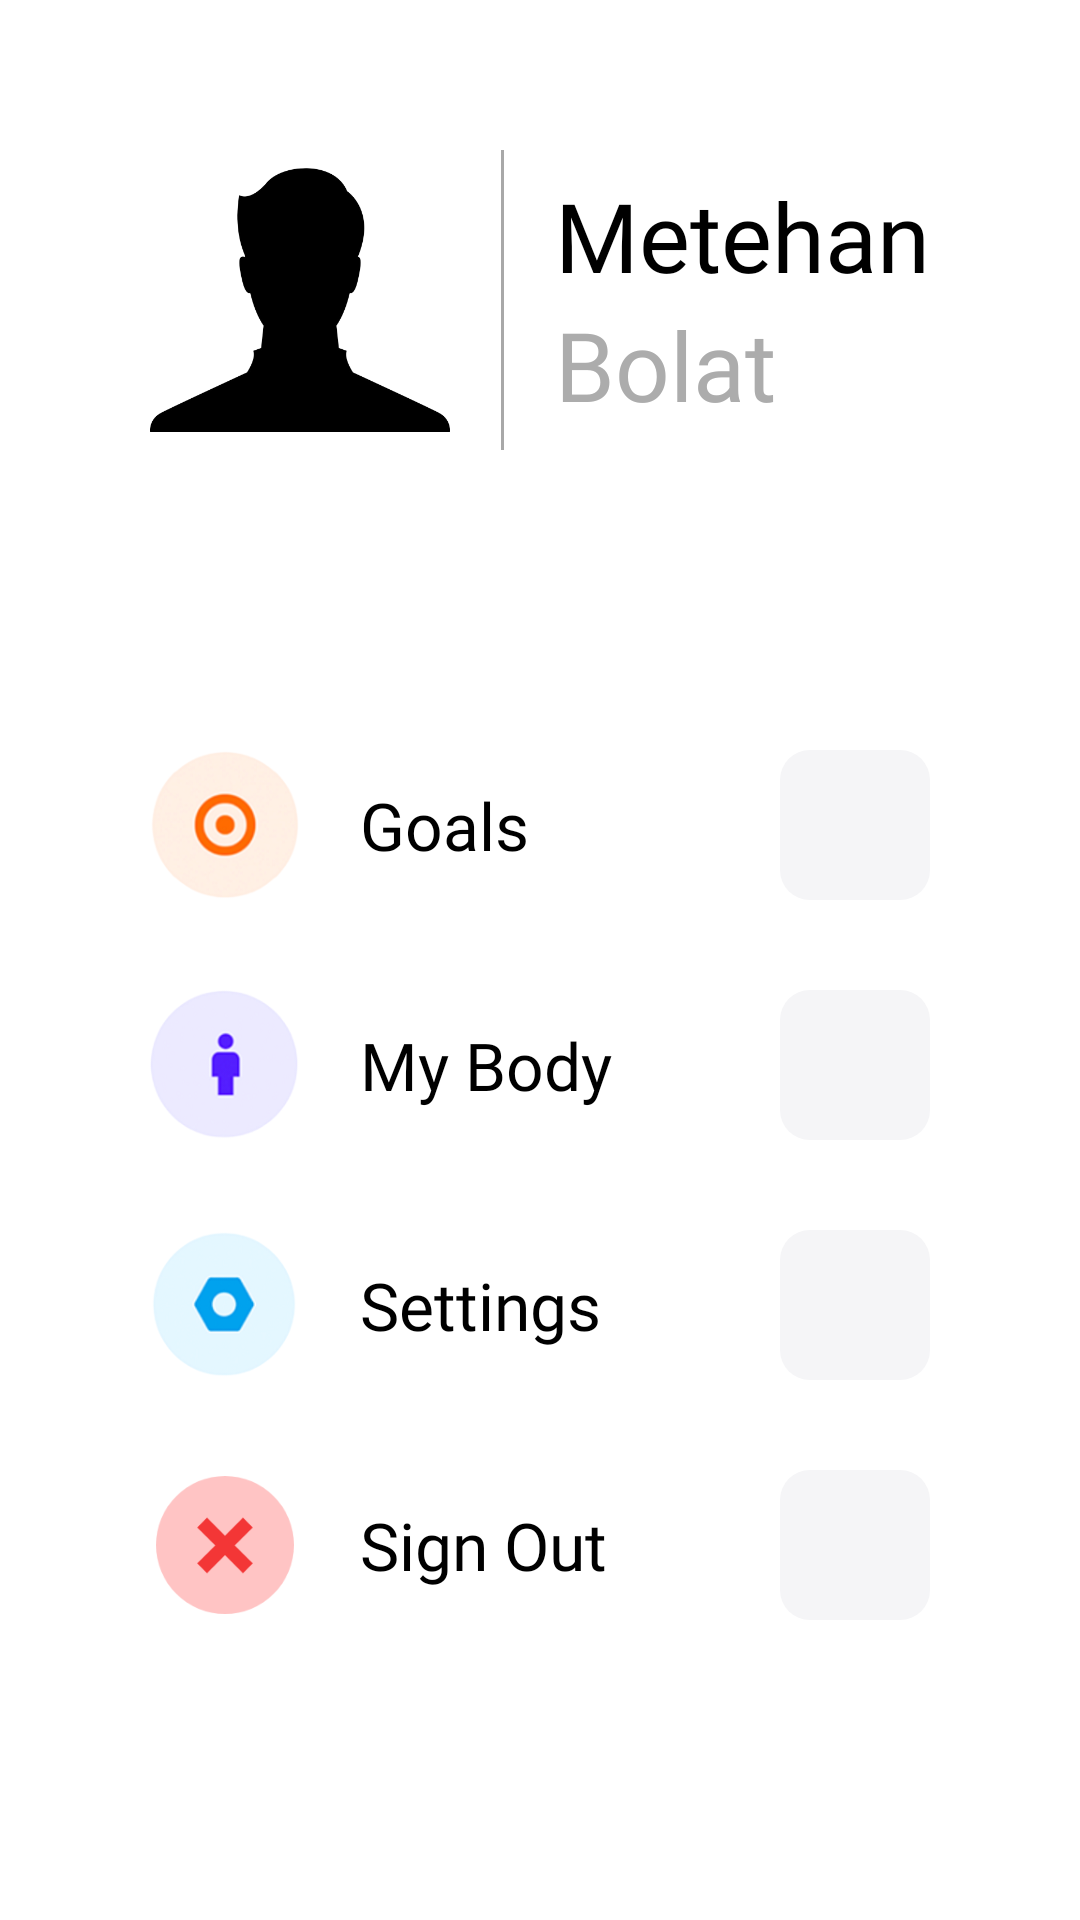

Named icons in this screenshot (1080px x 1920px) and their centers, (x=x, y=y):
exit: (x=225, y=1545)
profile: (x=300, y=300)
